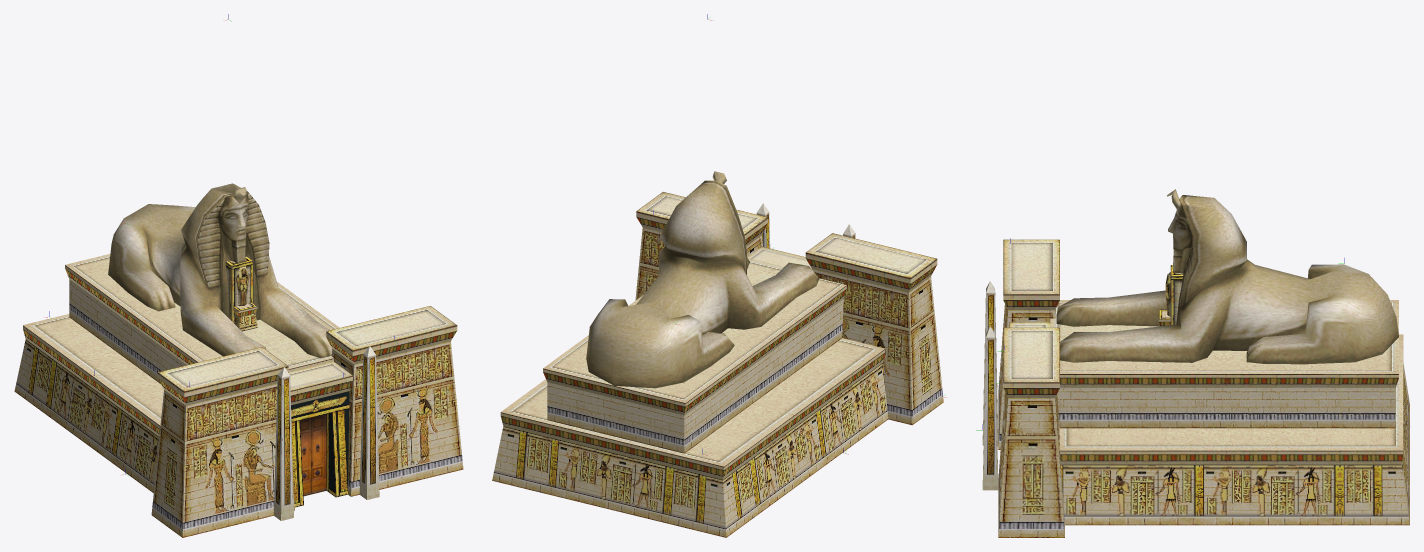
Rendered from egyptian-wonder-isis.glb.
3 views of the same model, side by side, from view 1: azimuth 30°, elevation 25°; view 2: azimuth 150°, elevation 25°; view 3: azimuth 270°, elevation 25° (orthographic). The views are drawn at different scales.
Visible parts, largest first — view 1: building e isis wonderModel; view 2: building e isis wonderModel; view 3: building e isis wonderModel.
Boxes of the visible parts, box(x1,y1,x2,y2) form: building e isis wonderModel: box(14, 183, 463, 537); building e isis wonderModel: box(492, 171, 943, 537); building e isis wonderModel: box(982, 189, 1409, 537).
Size of the model in its own units: 13.47 by 18.88 by 16.47.
Materials: 6 (5 with a texture image).
